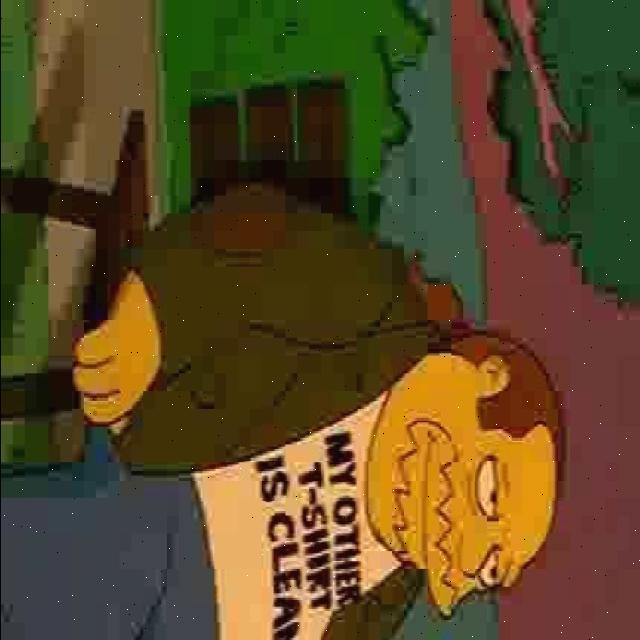Comic Book Guy: (359, 298, 565, 626)
